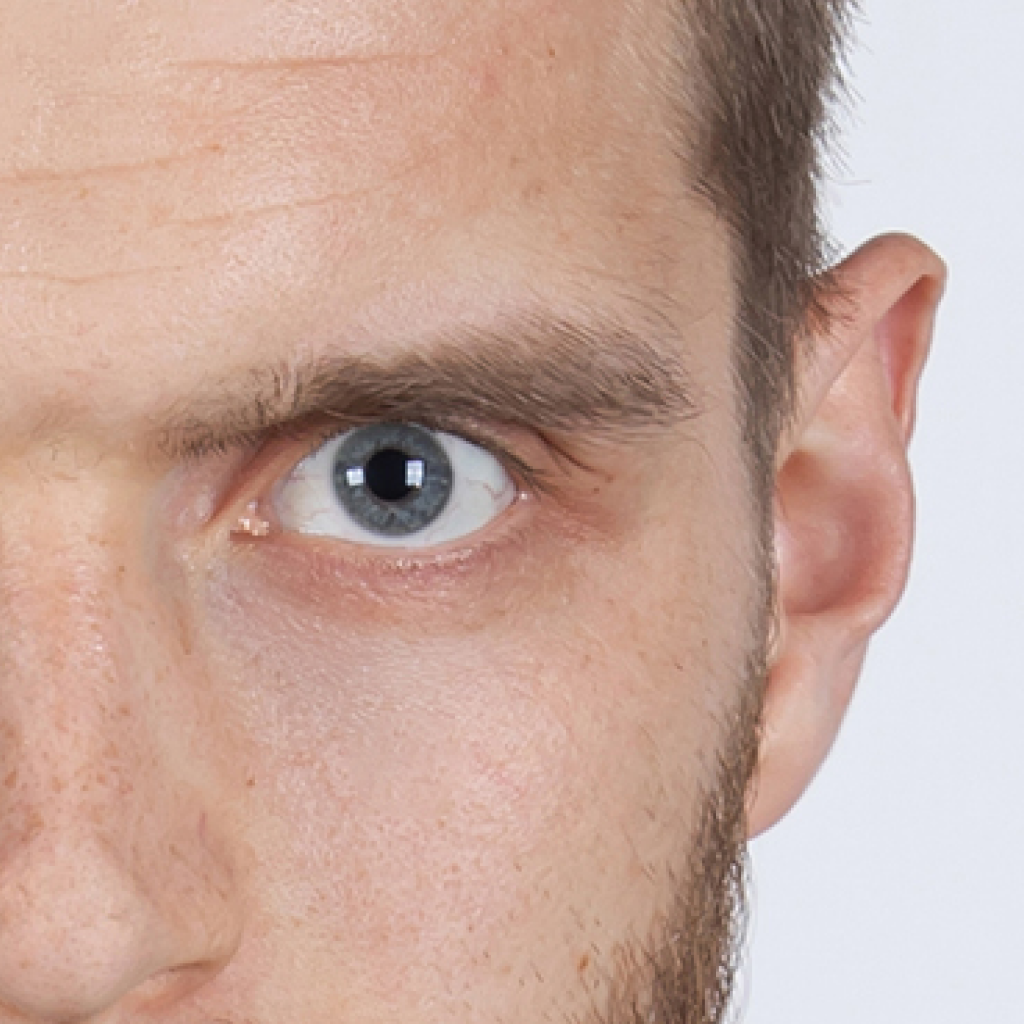iris: (333, 423, 452, 535)
pupil: (365, 449, 420, 502)
sclera: (235, 430, 519, 547)
